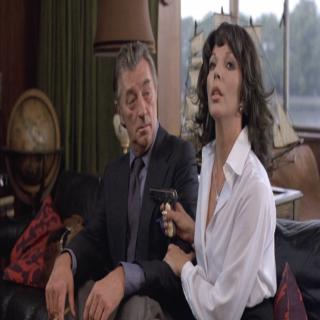gun: (149, 183, 178, 236)
